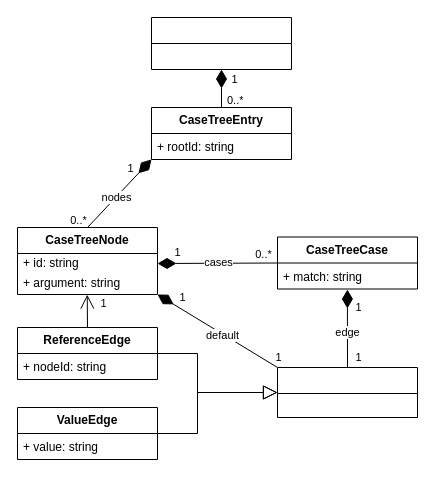
The diagram is 435 pixels wide and 480 high, and some of its shapes have lost their labels. Each missing label, with the centre of its shape:
CaseTreeEdge: [347,392]
CaseTreeSlice: [221,43]
